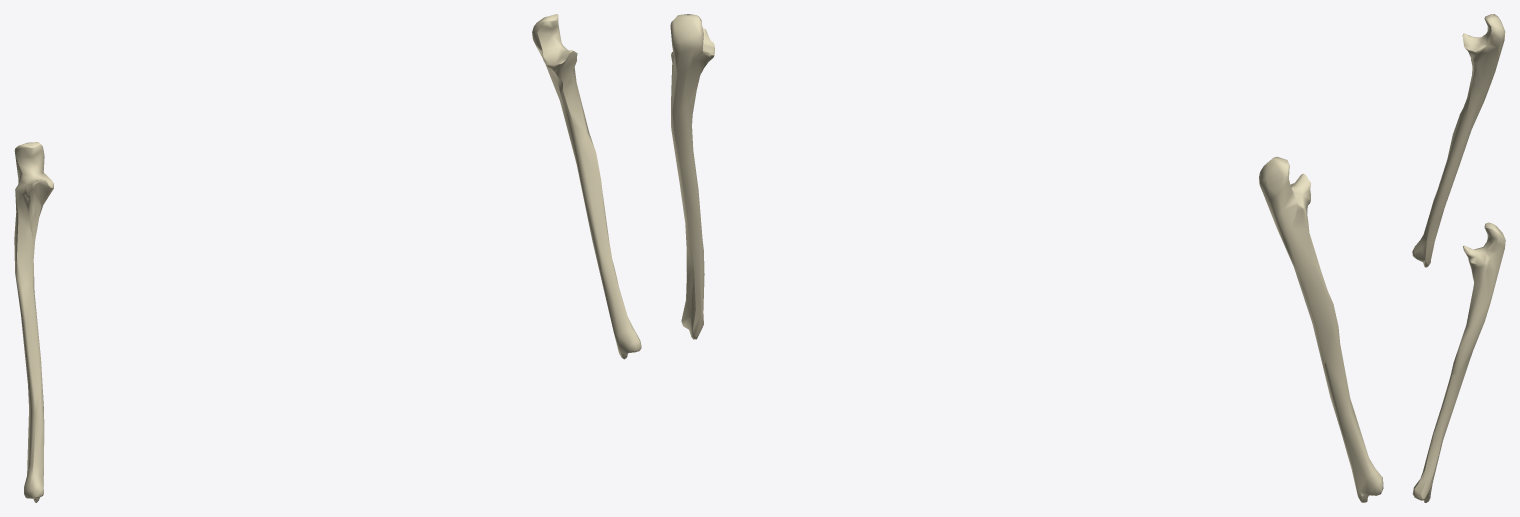
The model's file is ulna.glb.
3 views of the same model, side by side, from view 1: azimuth 30°, elevation 25°; view 2: azimuth 150°, elevation 25°; view 3: azimuth 270°, elevation 25° (orthographic). The views are drawn at different scales.
Visible parts, largest first — view 1: Ulna; view 2: Ulna; view 3: Ulna.
Boxes of the visible parts, x1=… form: Ulna: x1=14, y1=14, x2=641, y2=502; Ulna: x1=670, y1=14, x2=1383, y2=502; Ulna: x1=1412, y1=14, x2=1505, y2=502.
Bounding box in the file's own units: 0.4943 × 0.2473 × 0.0789.
